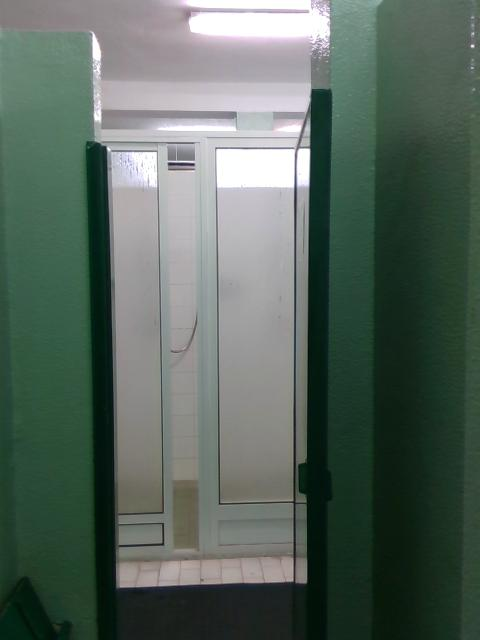open_door: (84, 86, 331, 639)
